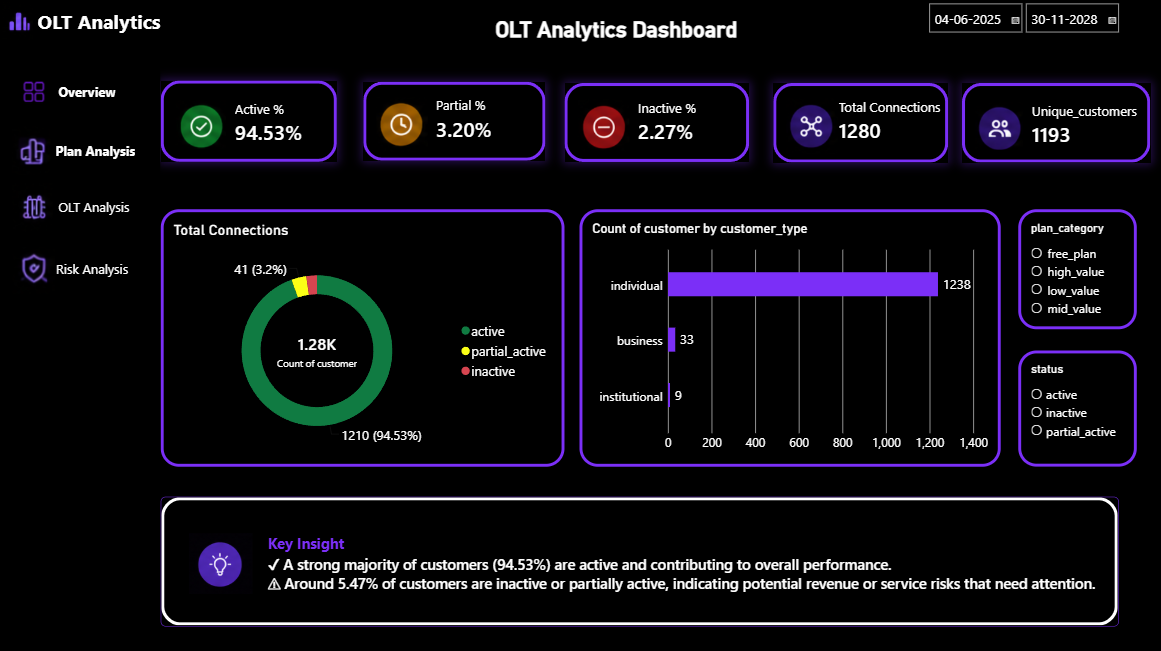

This screenshot's page, from the dashboard's own definition file:
{"tool":"powerbi","page":{"name":"Overview","canvas":[1920,1080],"ordinal":0},"visuals":[{"type":"cardVisual","fields":{"Data":["Count(OLT.customer_clean)"]},"box":[1589,140,310.8,131.7],"z":0},{"type":"cardVisual","fields":{"Data":["OLT.Active %"]},"box":[269.4,136.8,290.8,134.7],"z":1000},{"type":"cardVisual","fields":{"Data":["OLT.Partial %"]},"box":[603.1,137.9,300,130.4],"z":2000},{"type":"cardVisual","fields":{"Data":["OLT.Inactive %"]},"box":[934.5,140,304.3,130.4],"z":3000},{"type":"cardVisual","fields":{"Data":["OLT.Total Connections"]},"box":[1278.2,140,288.2,131.7],"z":4000},{"type":"donutChart","title":"Total Connections","fields":{"Category":["OLT.status"],"Y":["CountNonNull(OLT.customer)"]},"box":[269.6,347.9,664.8,424],"z":5000},{"type":"clusteredBarChart","fields":{"Category":["OLT.customer_type"],"Y":["CountNonNull(OLT.customer)"]},"box":[959.2,347.9,693.7,424],"z":6000},{"type":"listSlicer","fields":{"Values":["OLT.plan_category"]},"box":[1681.7,347.9,195.5,197.6],"z":7000},{"type":"listSlicer","fields":{"Values":["OLT.status"]},"box":[1681.7,580.4,195.5,191.4],"z":8000},{"type":"shape","box":[0,0,269.4,1079.7],"z":9000},{"type":"actionButton","box":[0,106.9,207.4,98.4],"z":10000},{"type":"actionButton","box":[0,201,239.5,100.5],"z":11000},{"type":"actionButton","box":[15,301.5,290.2,86.4],"z":12000},{"type":"actionButton","box":[17.1,406.2,211.7,81.2],"z":13000},{"type":"textbox","title":"OLT Analytics Dashboard","box":[248,29.9,1545.8,87.7],"z":14000},{"type":"cardVisual","fields":{"Data":["OLT.Key Insight"]},"box":[269.4,821,1577.9,213.8],"z":15000},{"type":"slicer","fields":{"Values":["OLT.activation date"]},"box":[1526.6,2.1,350.6,72.7],"z":16000},{"type":"image","box":[8.6,0,51.3,74.8],"z":17000}]}

Visuals, with their boxes on the page's 1920x1080 design canvas (x1, y1, x2, y2). These are canvas units, not pixel positions in the 1161x651 screenshot, which may show the page scaled, cropped or inside an application window:
cardVisual - Count(OLT.customer_clean): x1=1589 y1=140 x2=1900 y2=272
cardVisual - OLT.Active %: x1=269 y1=137 x2=560 y2=272
cardVisual - OLT.Partial %: x1=603 y1=138 x2=903 y2=268
cardVisual - OLT.Inactive %: x1=934 y1=140 x2=1239 y2=270
cardVisual - OLT.Total Connections: x1=1278 y1=140 x2=1566 y2=272
"Total Connections" donutChart: x1=270 y1=348 x2=934 y2=772
clusteredBarChart - OLT.customer_type x CountNonNull(OLT.customer): x1=959 y1=348 x2=1653 y2=772
listSlicer - OLT.plan_category: x1=1682 y1=348 x2=1877 y2=546
listSlicer - OLT.status: x1=1682 y1=580 x2=1877 y2=772
shape: x1=0 y1=0 x2=269 y2=1080
actionButton: x1=0 y1=107 x2=207 y2=205
actionButton: x1=0 y1=201 x2=240 y2=302
actionButton: x1=15 y1=302 x2=305 y2=388
actionButton: x1=17 y1=406 x2=229 y2=487
"OLT Analytics Dashboard" textbox: x1=248 y1=30 x2=1794 y2=118
cardVisual - OLT.Key Insight: x1=269 y1=821 x2=1847 y2=1035
slicer - OLT.activation date: x1=1527 y1=2 x2=1877 y2=75
image: x1=9 y1=0 x2=60 y2=75
